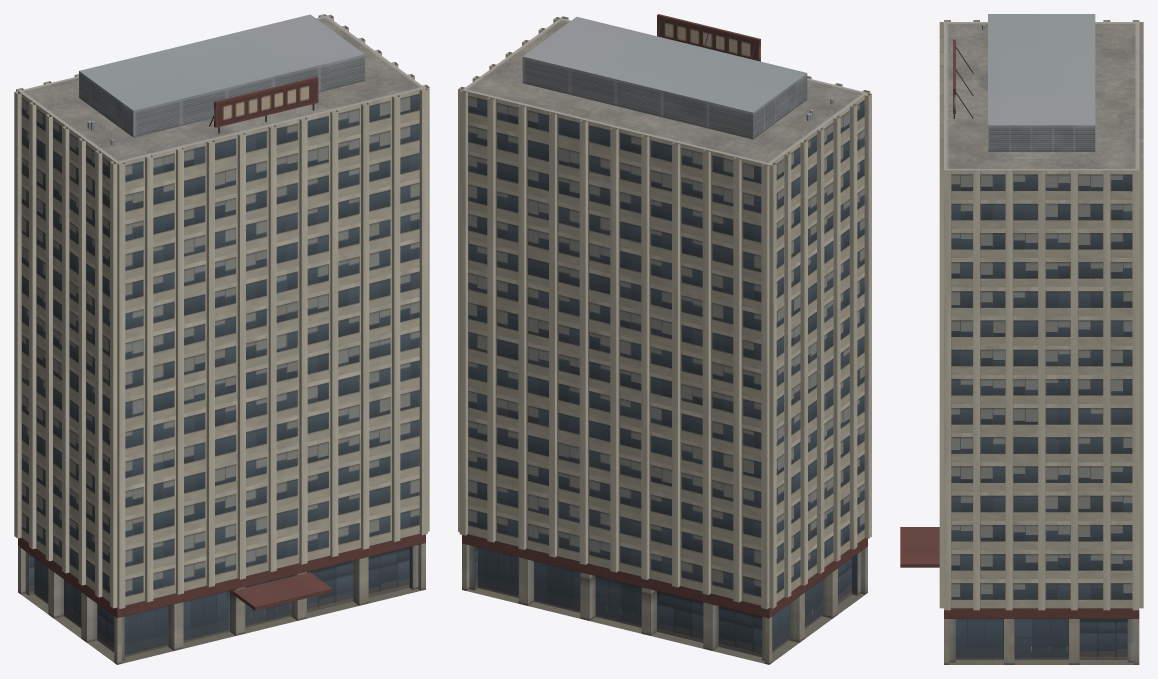
Rendered from sf_midrise_d.glb.
The picture shows the model from 3 angles, left to right: view 1: azimuth 30°, elevation 25°; view 2: azimuth 150°, elevation 25°; view 3: azimuth 270°, elevation 25°; orthographic projection.
Parts seen in each view (by area): view 1: sf_midrise_d; view 2: sf_midrise_d; view 3: sf_midrise_d.
Boxes of the visible parts, x1,y1,x2,y2 form: sf_midrise_d: [14, 14, 429, 664]; sf_midrise_d: [458, 14, 871, 664]; sf_midrise_d: [900, 14, 1143, 664].
Size of the model in its own units: 36.9 by 59.5 by 24.95.
Materials: 1 (1 with a texture image).
